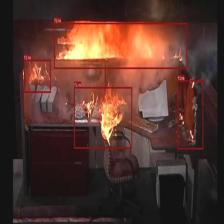fire: (54, 22, 187, 68), (74, 87, 132, 148), (178, 80, 204, 149), (24, 60, 51, 92)
